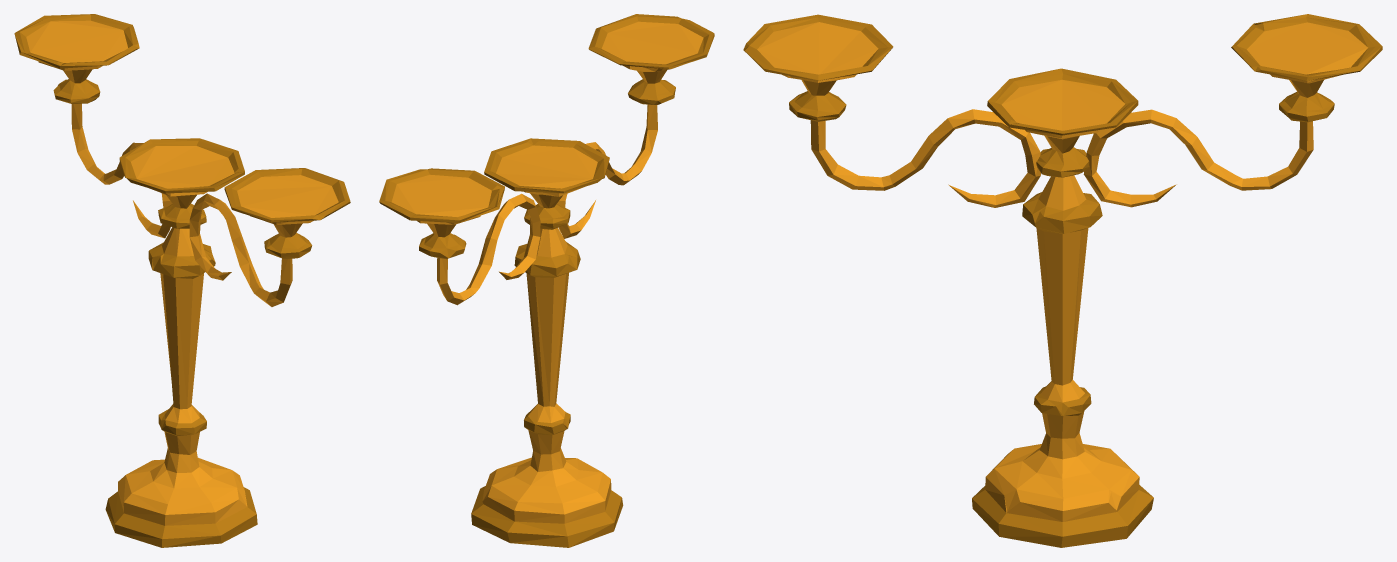
Rendered from SFI_Chandelier_005.fbx.
3 views of the same model, side by side, from view 1: azimuth 30°, elevation 25°; view 2: azimuth 150°, elevation 25°; view 3: azimuth 270°, elevation 25° (orthographic). The views are drawn at different scales.
Visible parts, largest first — view 1: SFI_Chandelier_005; view 2: SFI_Chandelier_005; view 3: SFI_Chandelier_005.
Boxes of the visible parts, left/top/right/bottom form: SFI_Chandelier_005: left=14, top=14, right=350, bottom=547; SFI_Chandelier_005: left=379, top=14, right=714, bottom=547; SFI_Chandelier_005: left=743, top=14, right=1382, bottom=547.
Size of the model in its own units: 16.06 by 45.66 by 56.72.
